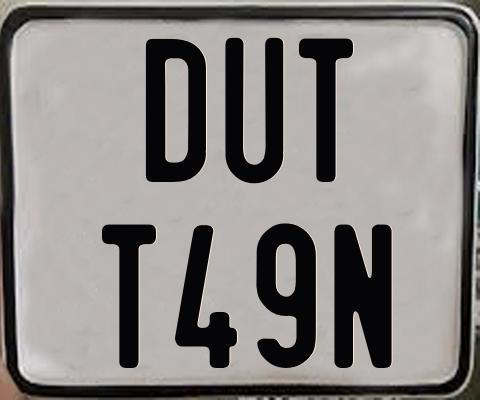4: (173, 223, 239, 370)
9: (256, 222, 317, 371)
D: (146, 39, 207, 186)
N: (331, 222, 389, 368)
T: (298, 38, 358, 186), (100, 224, 160, 368)
U: (224, 37, 285, 184)
